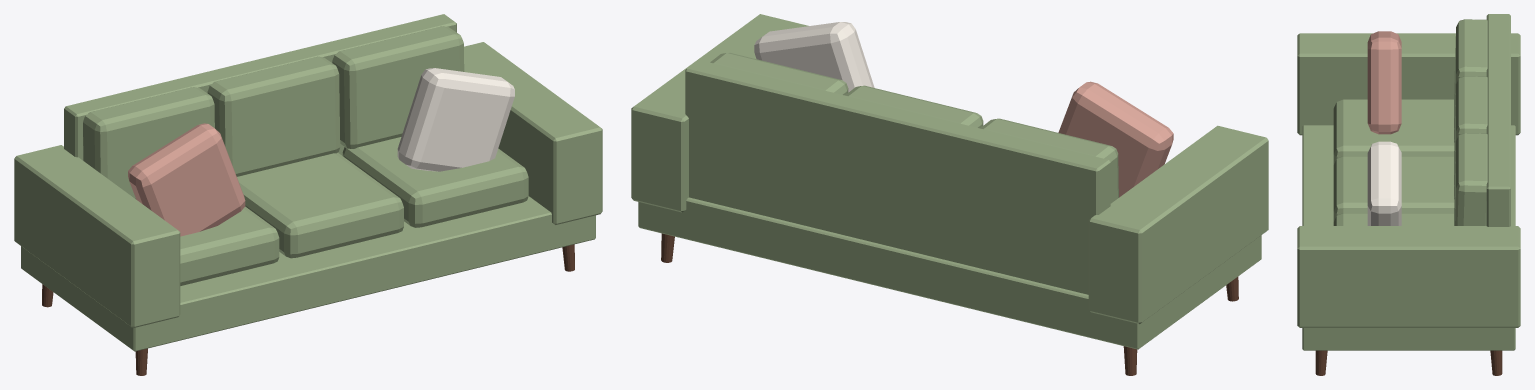
File: sofa.glb
3 views of the same model, side by side, from view 1: azimuth 30°, elevation 25°; view 2: azimuth 150°, elevation 25°; view 3: azimuth 270°, elevation 25° (orthographic). The views are drawn at different scales.
Visible parts, largest first — view 1: sofa; view 2: sofa; view 3: sofa.
Part boxes in pixels (x1=…): sofa: x1=14, y1=14, x2=602, y2=375; sofa: x1=631, y1=14, x2=1268, y2=375; sofa: x1=1297, y1=14, x2=1520, y2=375.
Bounding box in the file's own units: 2.1 × 0.842 × 0.92.
